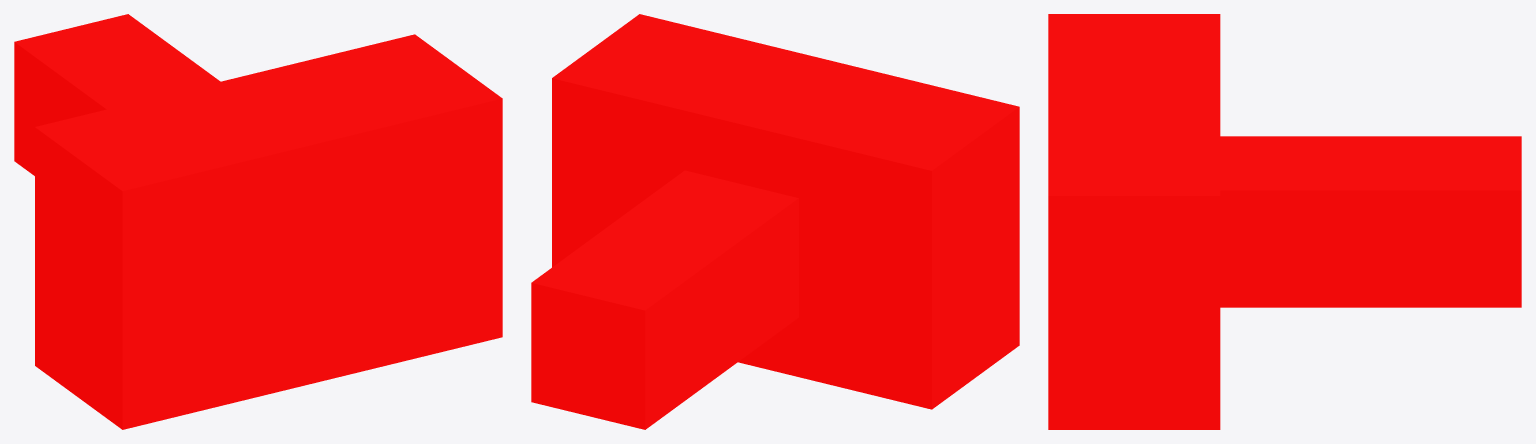
Rendered from Items.fbx_Slider_Handle.fbx.
3 renders of one model, left to right at view 1: azimuth 30°, elevation 25°; view 2: azimuth 150°, elevation 25°; view 3: azimuth 270°, elevation 25°, orthographic.
Parts seen in each view (by area): view 1: IN.005; view 2: IN.005; view 3: IN.005.
Boxes of the visible parts, <box> form: IN.005: <box>14,14,502,429</box>; IN.005: <box>531,14,1019,429</box>; IN.005: <box>1048,14,1521,429</box>.
Size of the model in its own units: 0.2 by 0.12 by 0.22.
